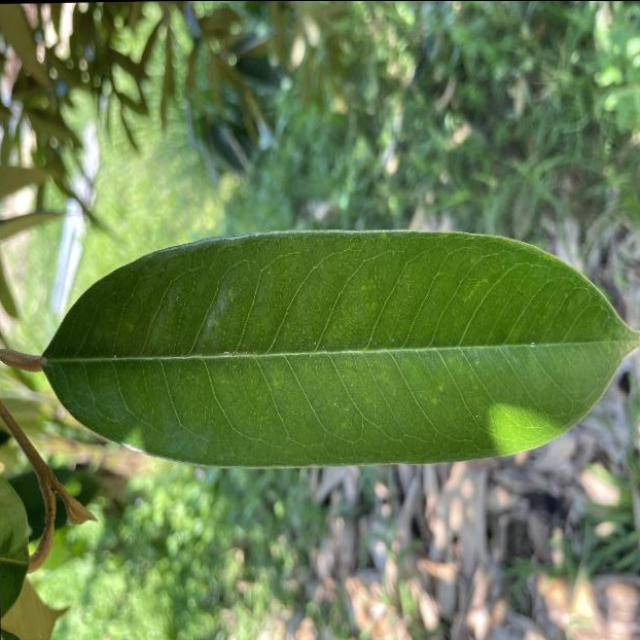No Disease: (27, 213, 640, 478)
